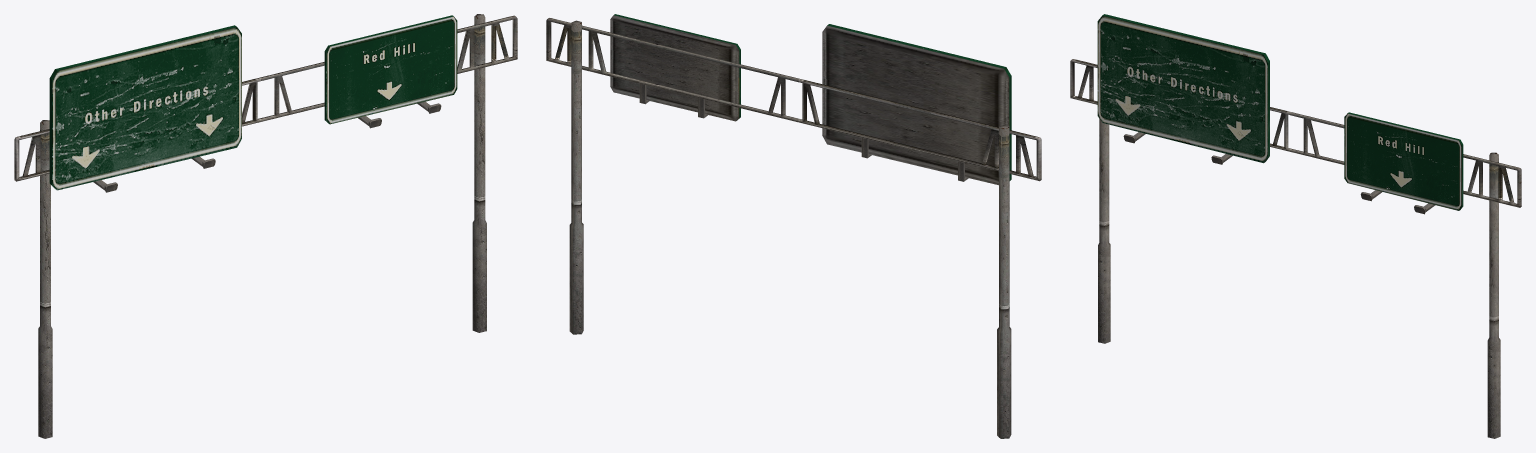
File: Model_RoadSign_01.fbx
3 renders of one model, left to right at view 1: azimuth 30°, elevation 25°; view 2: azimuth 150°, elevation 25°; view 3: azimuth 330°, elevation 25°, orthographic. The views are drawn at different scales.
Parts seen in each view (by area): view 1: roadSign1; view 2: roadSign1; view 3: roadSign1.
Part boxes in pixels (x1,y1,x2,y2): roadSign1: (14, 14, 517, 438); roadSign1: (546, 14, 1041, 438); roadSign1: (1070, 14, 1521, 438).
Bounding box in the file's own units: 1038 × 730 × 83.78.
